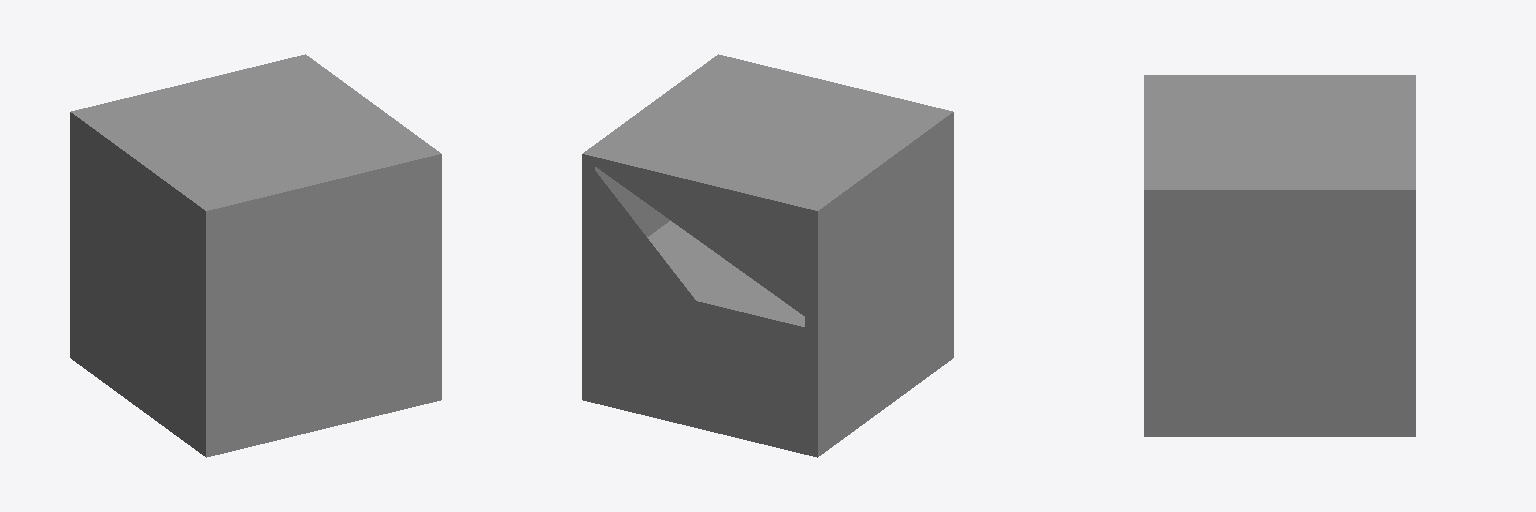
Rendered from kitchen_wooden_cuisine.obj.
3 renders of one model, left to right at view 1: azimuth 30°, elevation 25°; view 2: azimuth 150°, elevation 25°; view 3: azimuth 270°, elevation 25°, orthographic.
Parts seen in each view (by area): view 1: Cube; view 2: Cube; view 3: Cube.
Boxes of the visible parts, x1,y1,x2,y2 form: Cube: [70, 54, 441, 457]; Cube: [582, 54, 953, 457]; Cube: [1144, 75, 1415, 436].
Bounding box in the file's own units: 2 × 2 × 2.